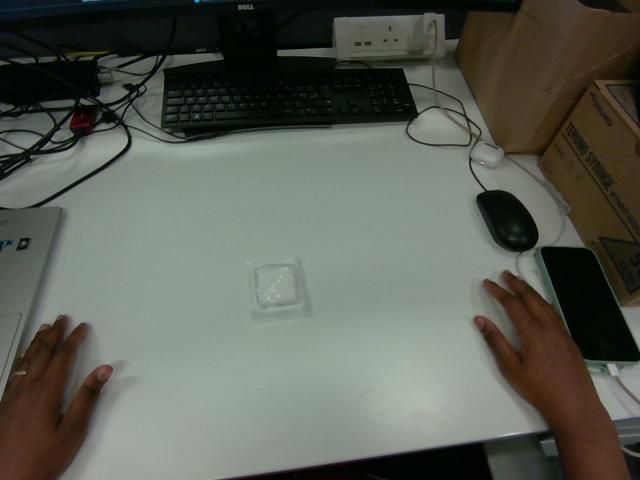gauze: (247, 258, 308, 323)
